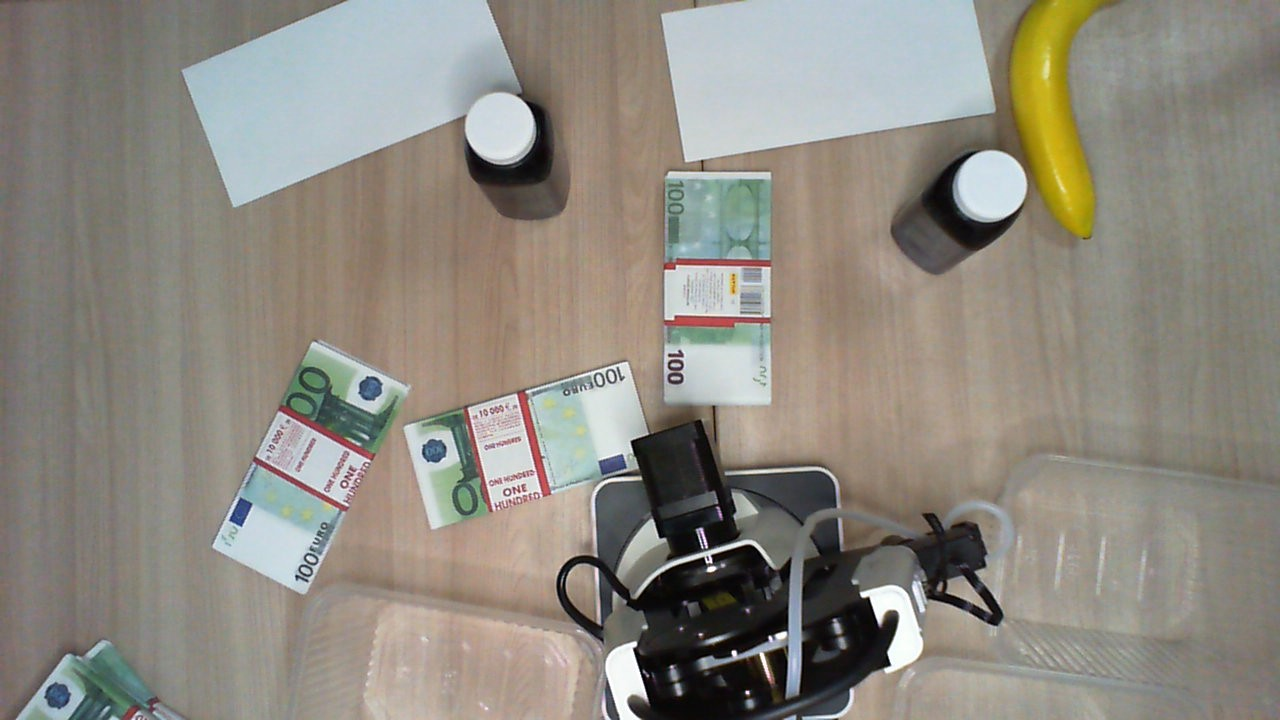banana: (1010, 1, 1125, 243)
bottle: (454, 92, 562, 190), (941, 146, 1030, 244)
convert: (183, 1, 521, 211), (658, 1, 993, 160)
money: (210, 339, 408, 594), (404, 364, 655, 528), (663, 172, 772, 403), (12, 637, 198, 720)
